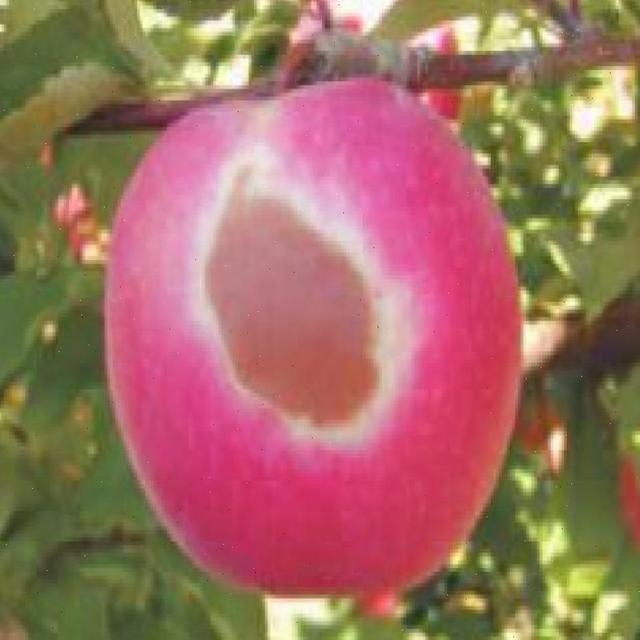Sunscald Fruit: (130, 102, 273, 300)
